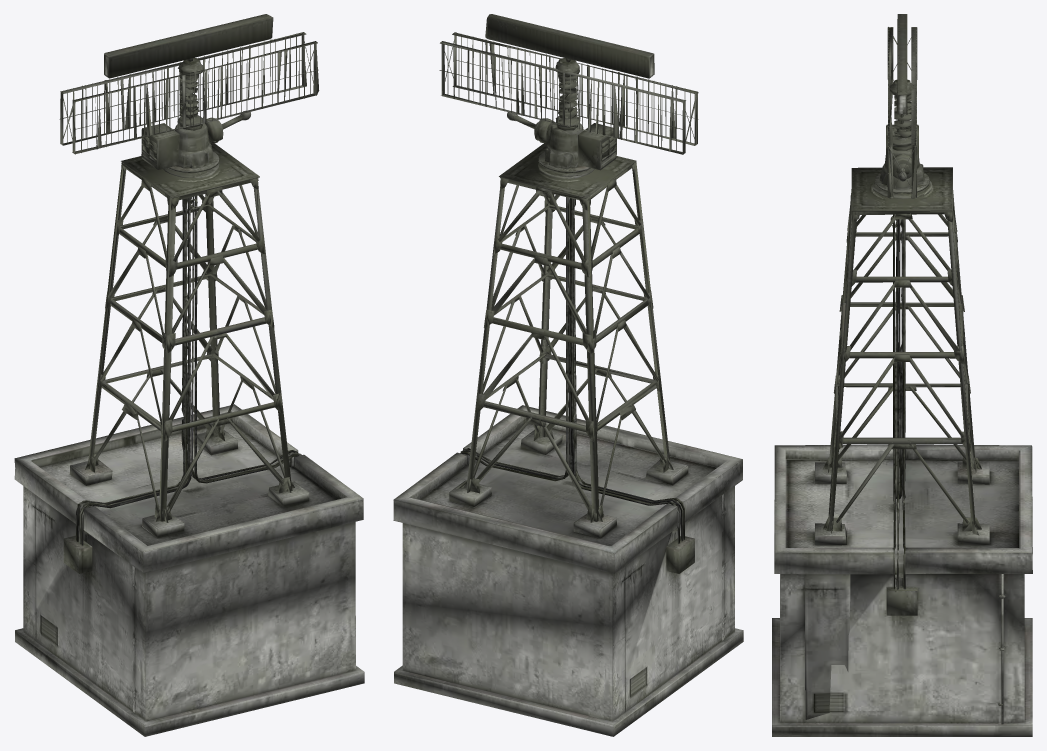
Rendered from radar.glb.
The picture shows the model from 3 angles, left to right: view 1: azimuth 30°, elevation 25°; view 2: azimuth 150°, elevation 25°; view 3: azimuth 270°, elevation 25°; orthographic projection.
Visible parts, largest first — view 1: hull, turret_radar; view 2: hull, turret_radar; view 3: hull, turret_radar.
Part boxes in pixels (bbox=[...]): hull: bbox=[14, 143, 364, 736]; turret_radar: bbox=[59, 14, 319, 170]; hull: bbox=[393, 143, 743, 736]; turret_radar: bbox=[439, 14, 698, 170]; hull: bbox=[772, 167, 1032, 736]; turret_radar: bbox=[875, 14, 929, 198].
Size of the model in its own units: 9.6 by 23.46 by 8.82.
Materials: 3 (3 with a texture image).
